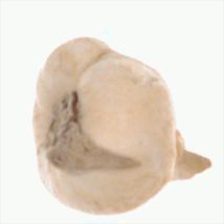L3: (163, 144, 212, 180)
L4: (32, 36, 212, 216)
